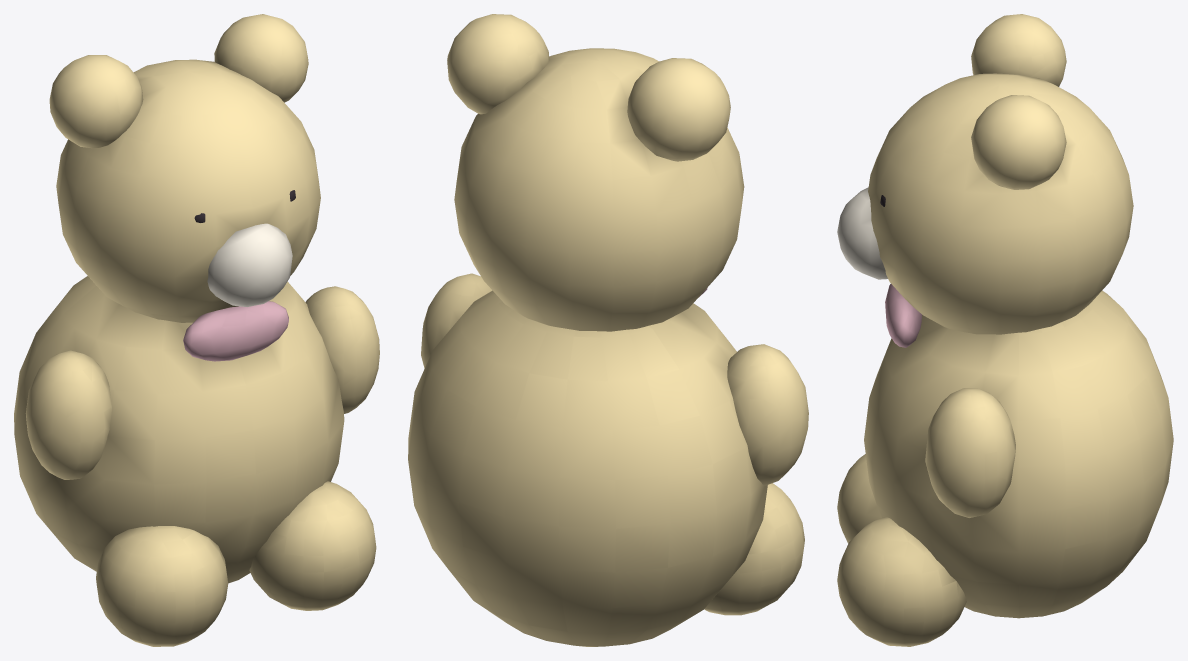
Rendered from gift-lulu.glb.
3 views of the same model, side by side, from view 1: azimuth 30°, elevation 25°; view 2: azimuth 150°, elevation 25°; view 3: azimuth 270°, elevation 25° (orthographic). The views are drawn at different scales.
Visible parts, largest first — view 1: gift-lulu; view 2: gift-lulu; view 3: gift-lulu.
Part boxes in pixels (x1,y1,x2,y2): gift-lulu: (14, 14, 379, 646); gift-lulu: (408, 14, 808, 646); gift-lulu: (837, 14, 1173, 646).
Size of the model in its own units: 0.416 by 0.63 by 0.352.
